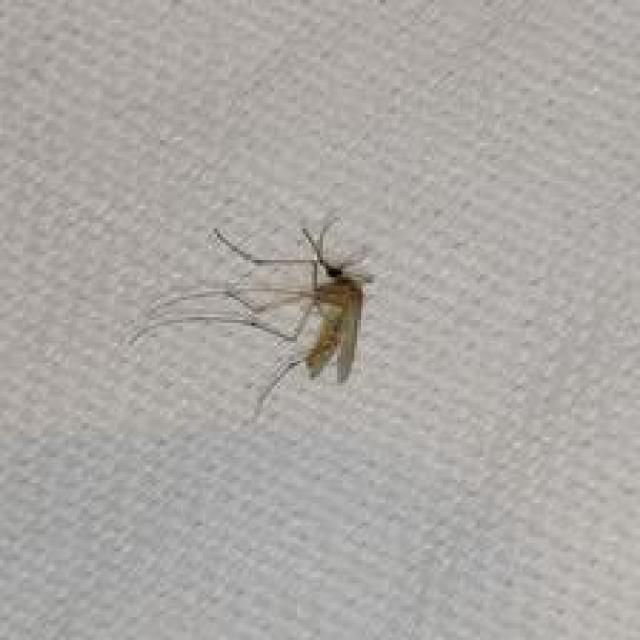Culex: (126, 213, 377, 424)
